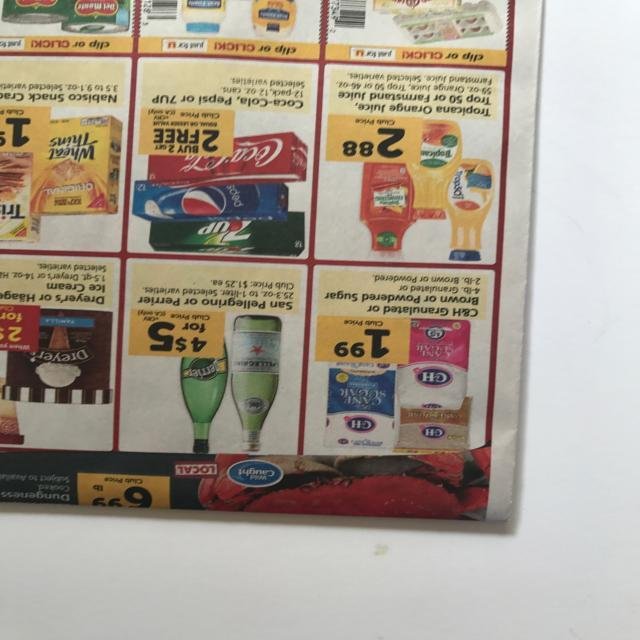paper: (1, 1, 546, 526)
